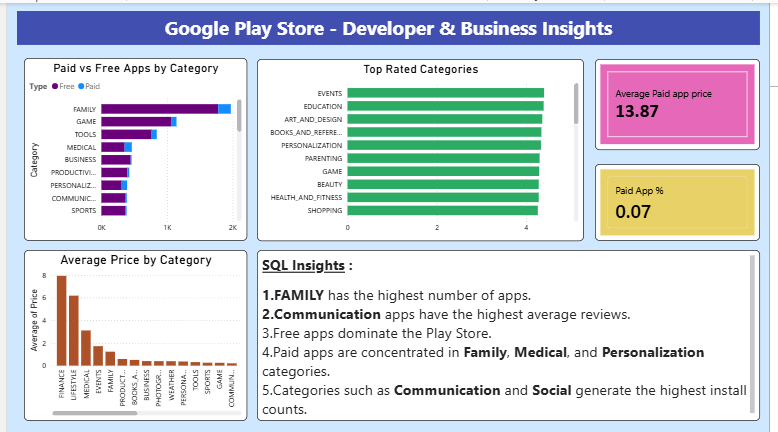

The dashboard page shown, as its layout file describes it:
{"tool":"powerbi","page":{"name":"Developer & Business Insights","canvas":[1280,720],"ordinal":2},"visuals":[{"type":"textbox","box":[16.8,13.4,1248.1,57.1],"z":0},{"type":"barChart","title":"Paid vs Free Apps by Category","fields":{"Series":["Google Play Store Analysis.Type"],"Y":["CountNonNull(Google Play Store Analysis.App)"],"Category":["Google Play Store Analysis.Category"]},"box":[28.6,92.4,374.6,307.4],"z":1},{"type":"cardVisual","fields":{"Data":["Google Play Store Analysis.Average Paid app price"]},"box":[987.7,94.1,277.2,152.9],"z":2},{"type":"columnChart","title":"Average Price by Category","fields":{"Category":["Google Play Store Analysis.Category"],"Y":["Avg(Google Play Store Analysis.Price)"]},"box":[28.6,414.9,374.6,287.2],"z":3},{"type":"barChart","title":"Top Rated Categories","fields":{"Category":["Google Play Store Analysis.Category"],"Y":["Google Play Store Analysis.Average Rating"]},"box":[419.9,94.1,549.3,305.7],"z":4},{"type":"textbox","box":[419.9,414.9,844.9,287.2],"z":5},{"type":"cardVisual","fields":{"Data":["Google Play Store Analysis.Paid App %"]},"box":[987.7,270.4,277.2,129.3],"z":6}]}

Visuals, with their boxes in screenshot pixels (x1, y1, x2, y2), scaled from the page's 1280x720 canvas onto the 778x432 screenshot:
textbox: 10/8/769/42
"Paid vs Free Apps by Category" barChart: 17/55/245/240
cardVisual - Google Play Store Analysis.Average Paid app price: 600/56/769/148
"Average Price by Category" columnChart: 17/249/245/421
"Top Rated Categories" barChart: 255/56/589/240
textbox: 255/249/769/421
cardVisual - Google Play Store Analysis.Paid App %: 600/162/769/240
